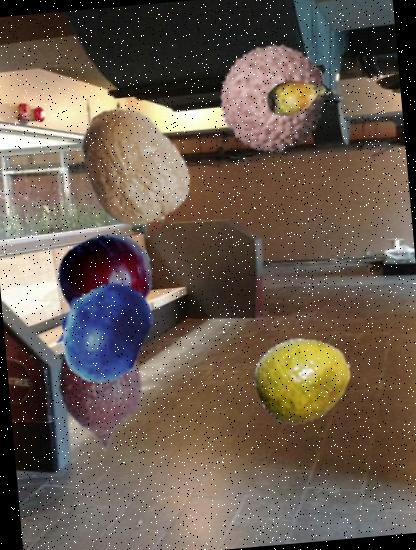Cactus: (263, 62, 330, 129)
Guava: (252, 327, 356, 431)
Huckleberry: (47, 275, 161, 389)
Kiwi: (64, 99, 202, 237)
Lychee: (214, 38, 334, 158)
Plum: (54, 225, 158, 328)
Salak: (18, 296, 181, 460)
